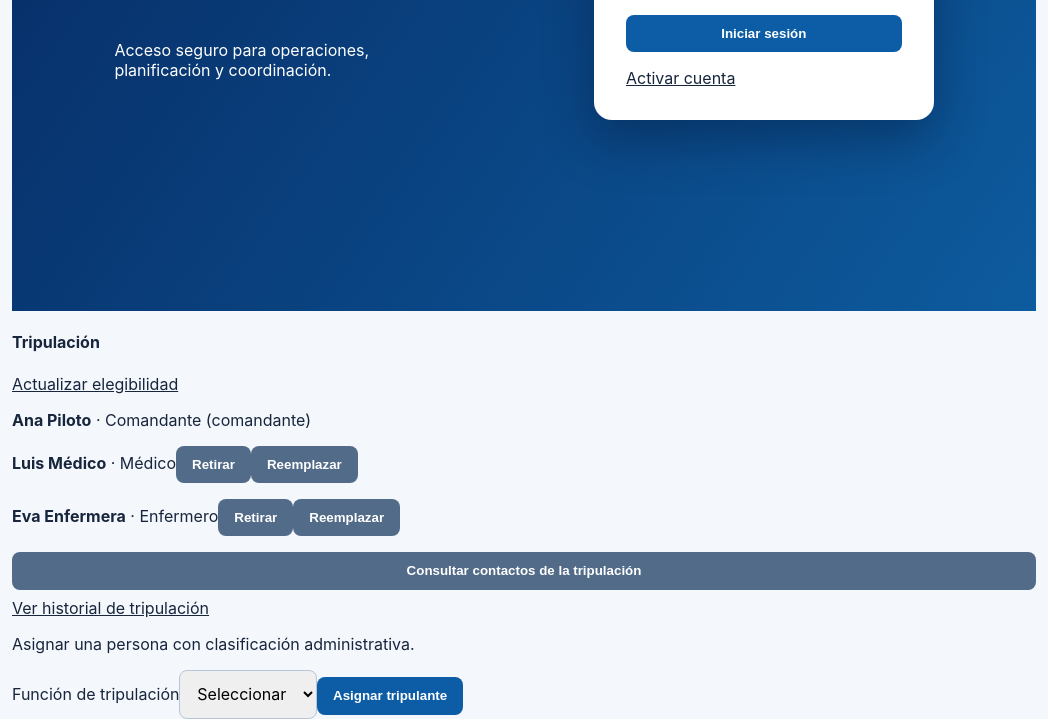
Test: una cuenta no activa no muestra contactos
(page scrolled)
Expected: the text "Luis Médico" is shown, [12,453,106,473]
Click the button "Consultar contactos de la tripulación". click: (524, 571)
box: [12,552,1036,590]
(page scrolled)
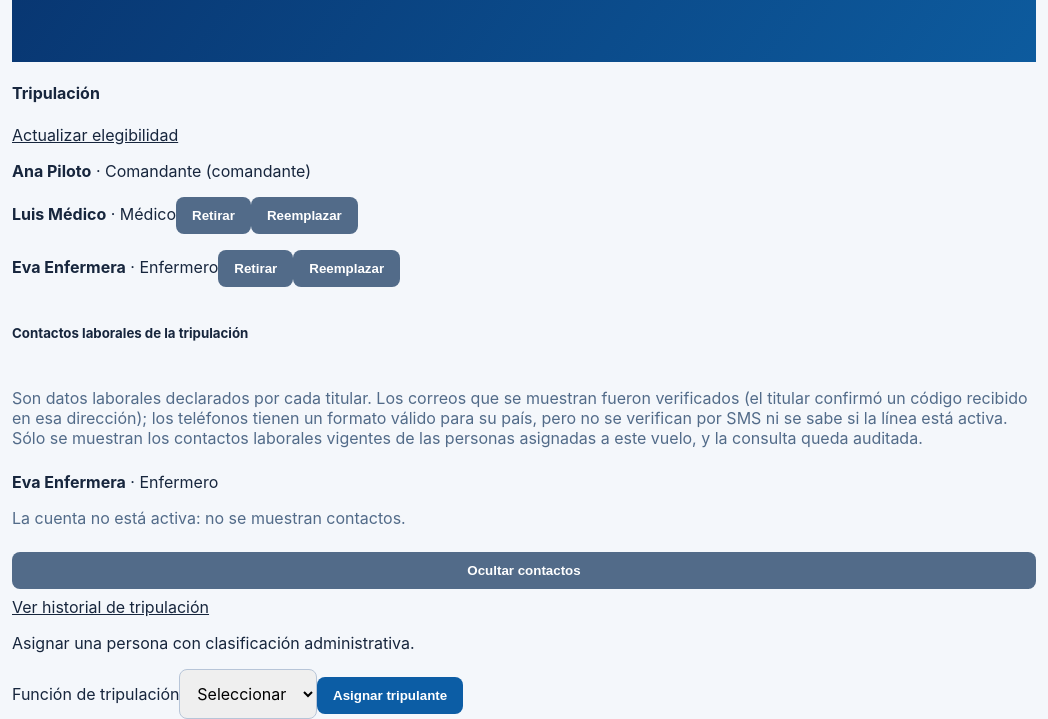
Expected: the text "La cuenta no está activa: no se muestran contactos." is shown, [12,508,406,528]
